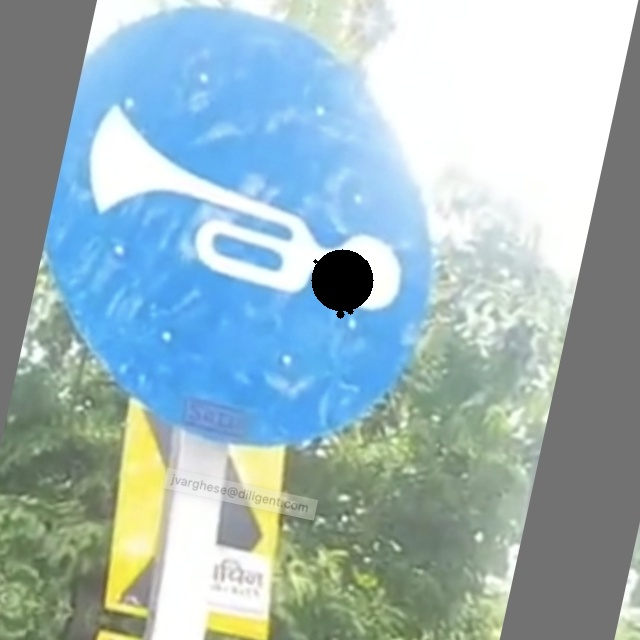Compulsory_Sound_Horn: (39, 26, 447, 401)
